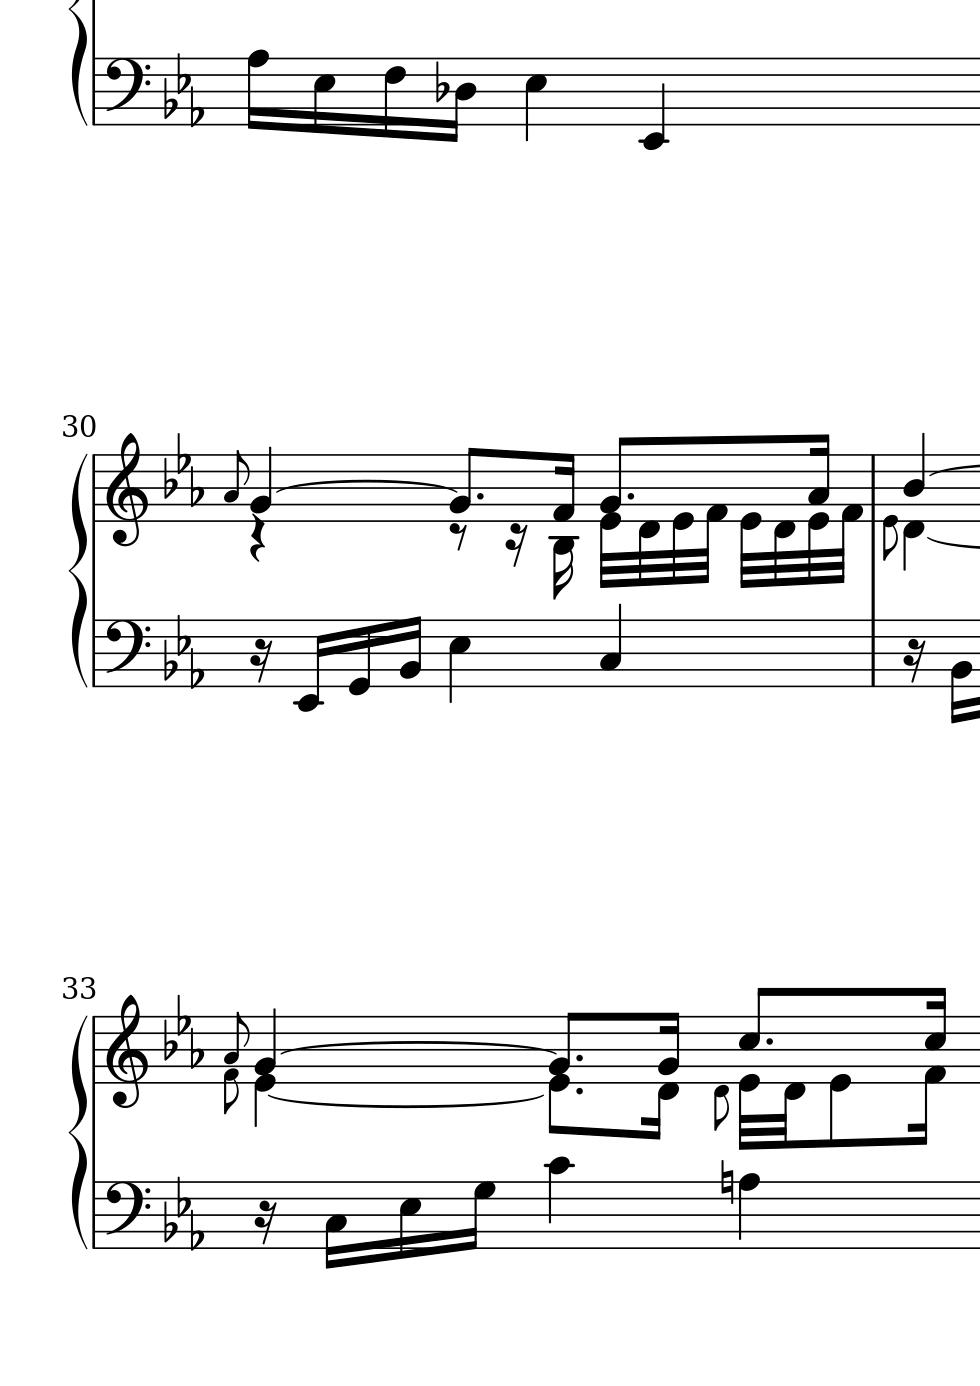0: (78, 413, 97, 439)
16_-1_2: (641, 1012, 681, 1141)
16_-2: (293, 618, 328, 714)
16_-3_1: (552, 451, 582, 600)
16_0: (346, 618, 373, 696)
16_1_5: (909, 986, 950, 1150)
16_2: (948, 618, 973, 724), (397, 614, 423, 688)
16_3: (322, 1180, 347, 1270)
16_4: (447, 55, 477, 143)
16_5: (396, 1180, 422, 1262), (310, 56, 336, 136)
16_6: (381, 55, 406, 141)
16_7: (463, 1179, 495, 1255)
16_8: (244, 49, 269, 131)
3: (78, 973, 97, 1001), (60, 413, 78, 439), (60, 975, 78, 1001)
32_-1: (774, 1015, 807, 1148), (767, 451, 797, 587), (637, 452, 662, 590)
32_0: (737, 453, 762, 591), (670, 452, 694, 585)
32_1: (697, 453, 728, 589), (832, 452, 862, 585)
4_-1_4: (902, 432, 930, 571)
4_-2: (638, 55, 667, 151)
4_0_2: (253, 1008, 279, 1129)
4_10: (545, 1157, 571, 1252)
4_3: (597, 602, 623, 689)
4_5: (523, 56, 548, 143), (447, 618, 471, 705)
4_6: (737, 1171, 759, 1250)
8_0: (828, 1013, 850, 1147)
8_0_2: (548, 1010, 577, 1136)
8_2: (448, 445, 479, 521)
Brace: (69, 1, 86, 128)
E_F: (161, 431, 205, 508), (161, 613, 205, 689), (161, 994, 205, 1070), (161, 1176, 205, 1250), (162, 52, 205, 127)
Fclef: (102, 55, 151, 126), (103, 618, 151, 689), (102, 1179, 150, 1250)
Flat: (432, 58, 449, 104)
Gclef: (104, 429, 150, 549), (104, 993, 148, 1110)
Natural: (718, 1158, 734, 1207)
Rests16: (902, 636, 927, 684), (503, 522, 529, 567), (248, 636, 273, 685), (253, 1198, 278, 1246)
Rests4: (247, 515, 268, 564)
Rests8: (447, 521, 469, 551)
Single_barline: (864, 455, 881, 522), (864, 620, 881, 687), (89, 57, 102, 125), (88, 455, 101, 522), (89, 619, 102, 686), (88, 1017, 101, 1083), (89, 1181, 101, 1248)
Slur: (267, 1093, 548, 1109), (281, 1040, 563, 1054), (275, 480, 459, 493)
dot: (573, 1085, 587, 1098), (624, 490, 636, 503), (763, 1035, 775, 1048), (573, 1052, 585, 1065), (474, 490, 486, 503)
